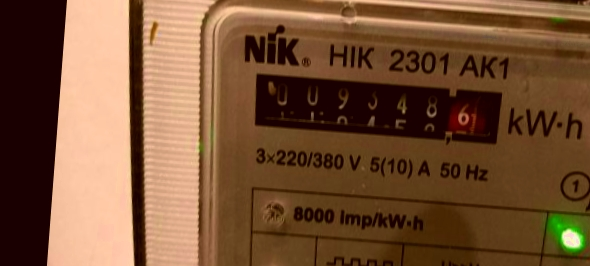0: (272, 80, 290, 107), (303, 79, 319, 106)
3: (364, 85, 380, 111)
4: (391, 85, 411, 116)
6: (453, 97, 472, 128)
8: (423, 90, 440, 119)
9: (334, 84, 350, 112)
screen: (233, 57, 516, 156)
